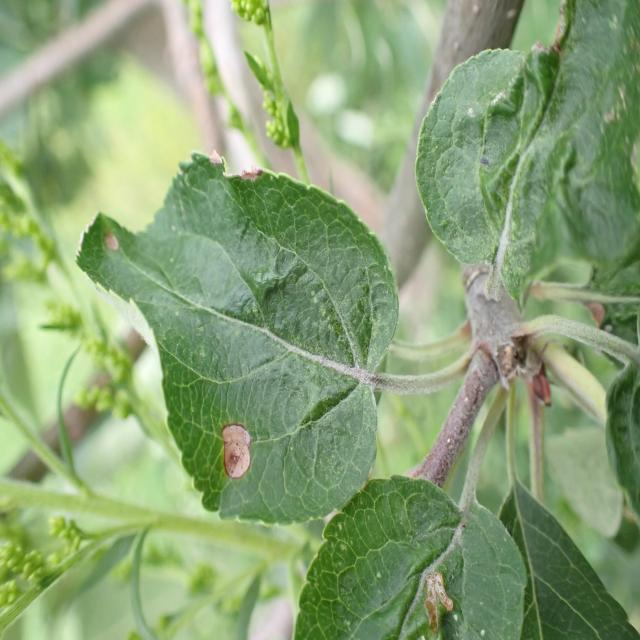frog-eye-leaf-spot: (76, 152, 400, 526)
